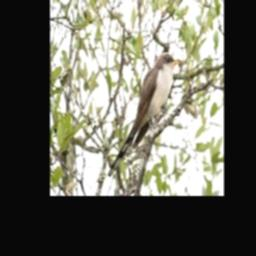Cuckoo: (107, 52, 179, 179)
